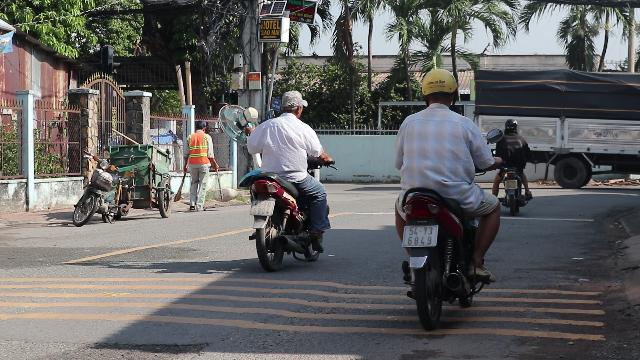helmet: (418, 68, 459, 108)
licenseplate: (403, 226, 437, 246), (250, 200, 274, 214)
motorcyclist: (388, 66, 504, 324), (242, 88, 334, 268)
nohelmet: (279, 90, 307, 118)
